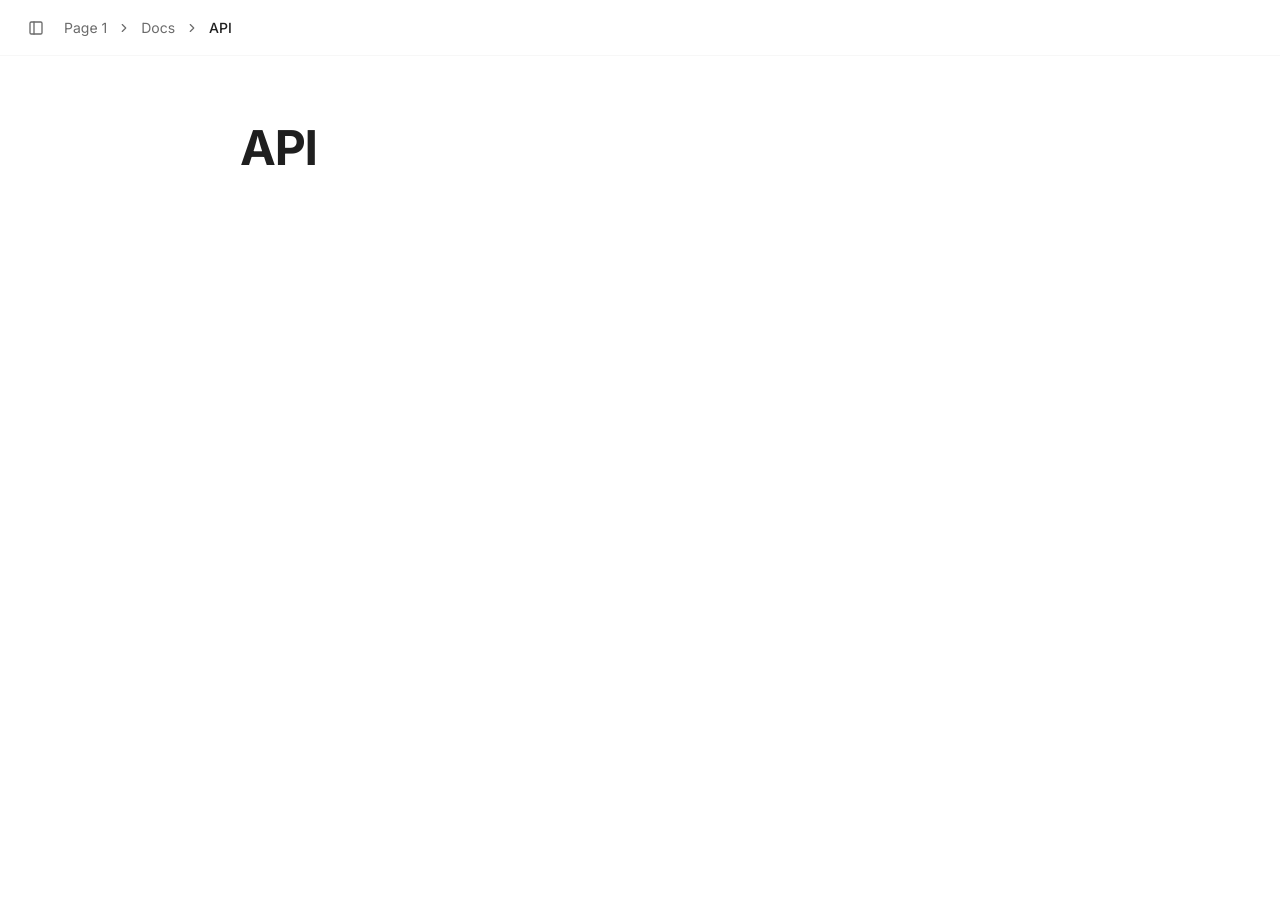
Public Navigation Sidebar › renders mobile drawer via Sheet on mobile viewport and closes on item navigate
# Click navigation trigger opens Sheet drawer
Click the button named "Toggle navigation".
click(36, 28)  # box [20, 12, 52, 44]
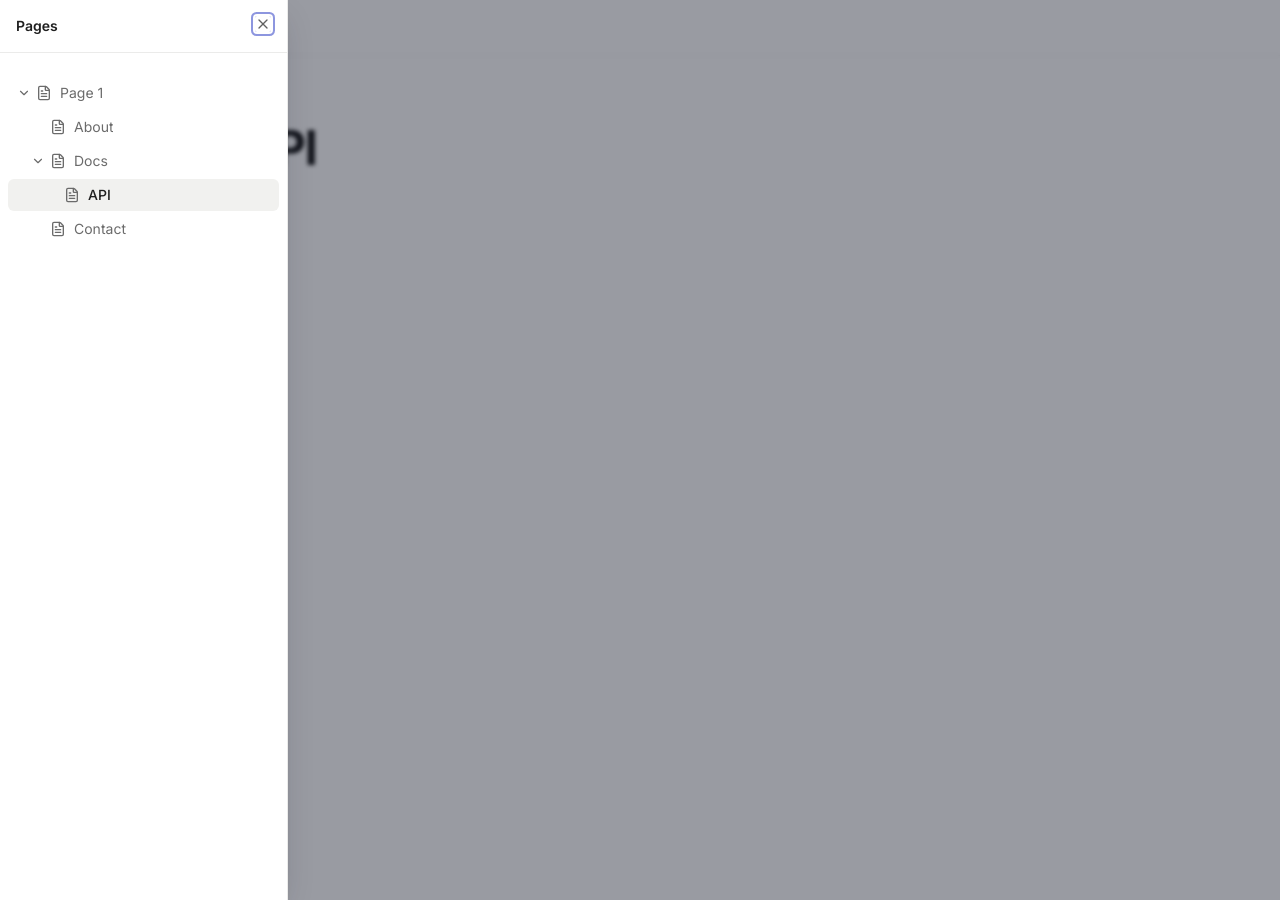
Result: the dialog with test id "public-mobile-sheet" is shown at [0, 0, 288, 899]
# Clicking a navigation link closes the mobile drawer
Click the list item with test id "nav-item-page-about".
click(82, 126)  # box [50, 118, 114, 135]
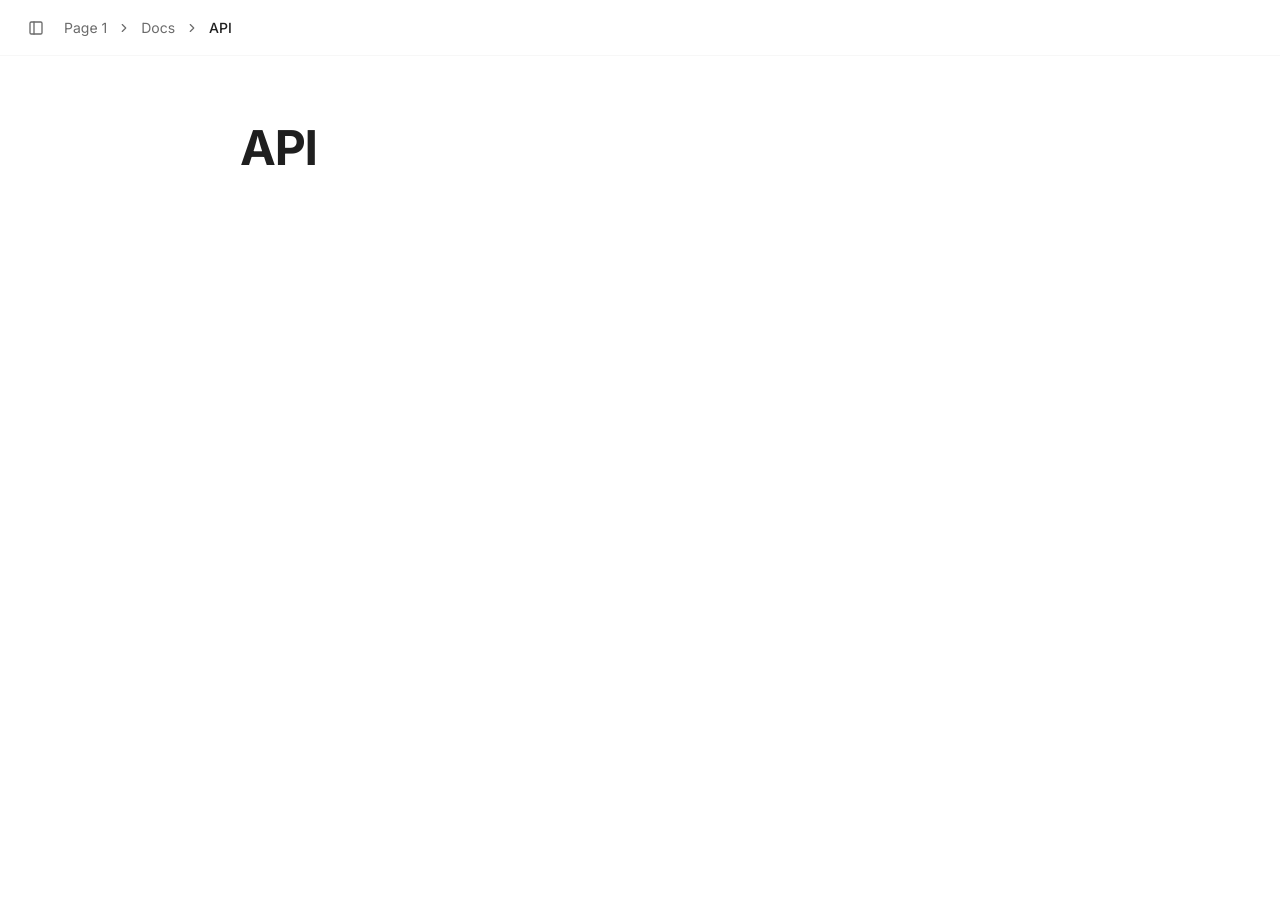
Result: the dialog with test id "public-mobile-sheet" is gone
